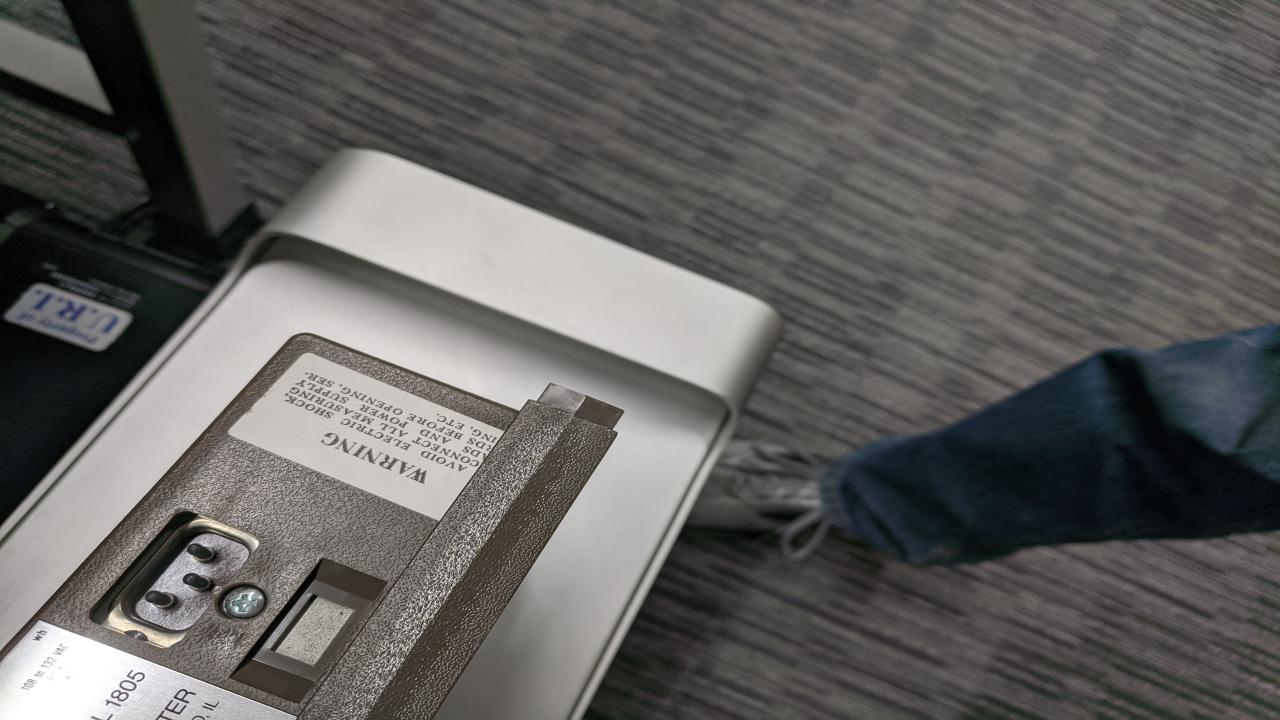CRS: (220, 584, 272, 624)
